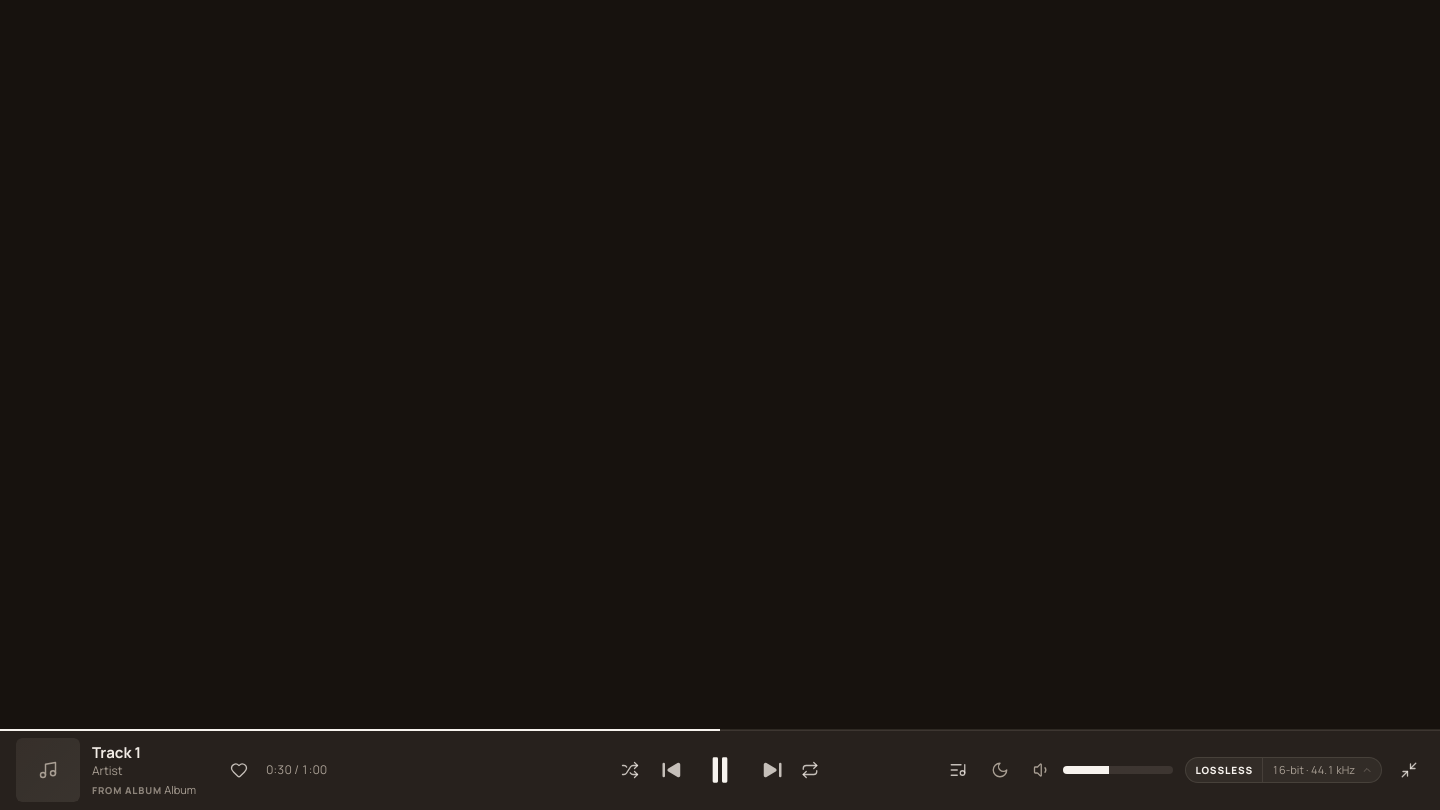
it: PlayerBar: quality plate › draws the Now playing note as file type, output path, then format
Click the button with aria-label "Streaming quality" at point(1284, 770), box [1185,757,1382,783]
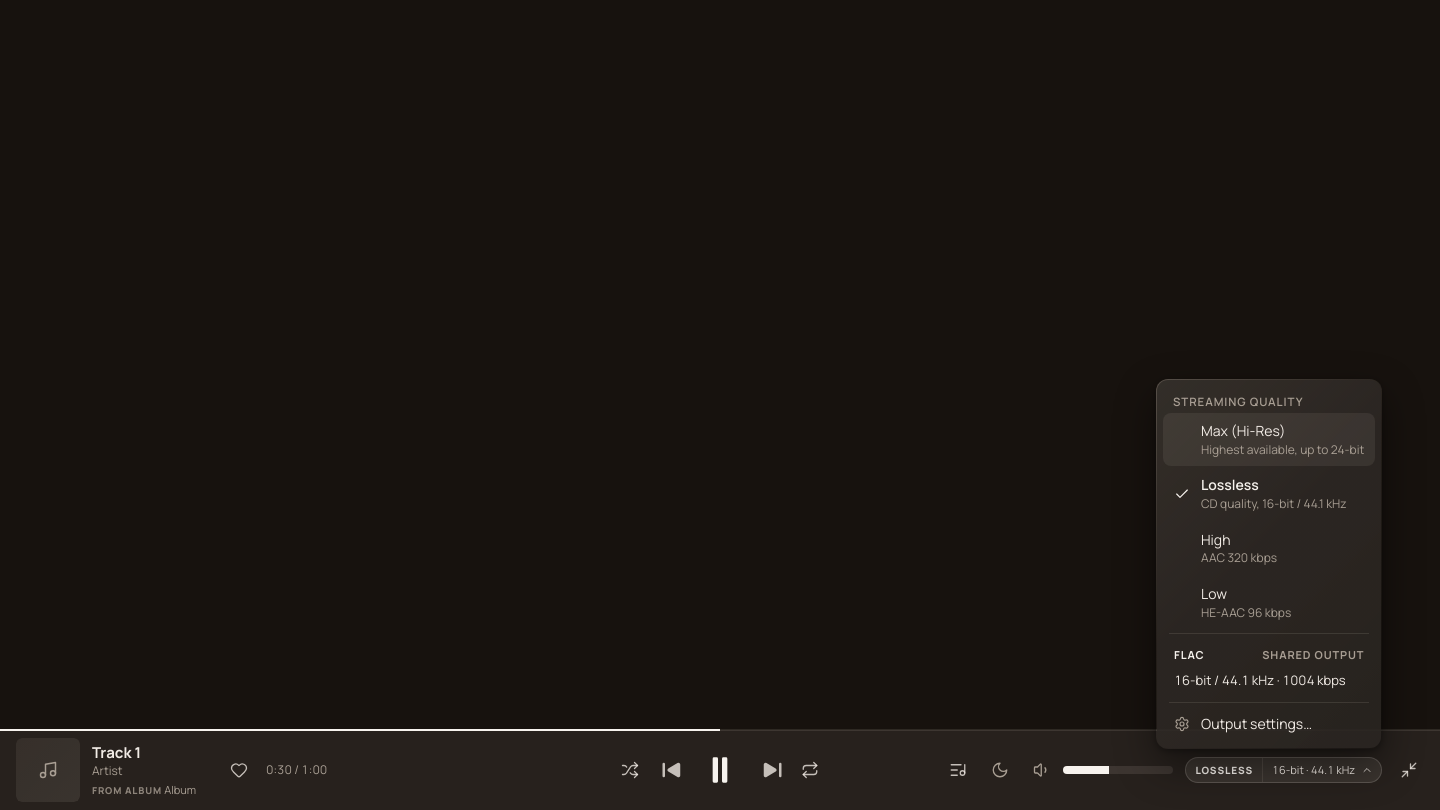
Expected: the text with class "np-codec" reads "FLAC", [1174,647,1204,662]
Expected: the text with class "np-out" reads "Shared output", [1262,647,1364,662]
Expected: the text with class "np-spec" reads "16-bit / 44.1 kHz · 1004 kbps", [1174,671,1346,689]
